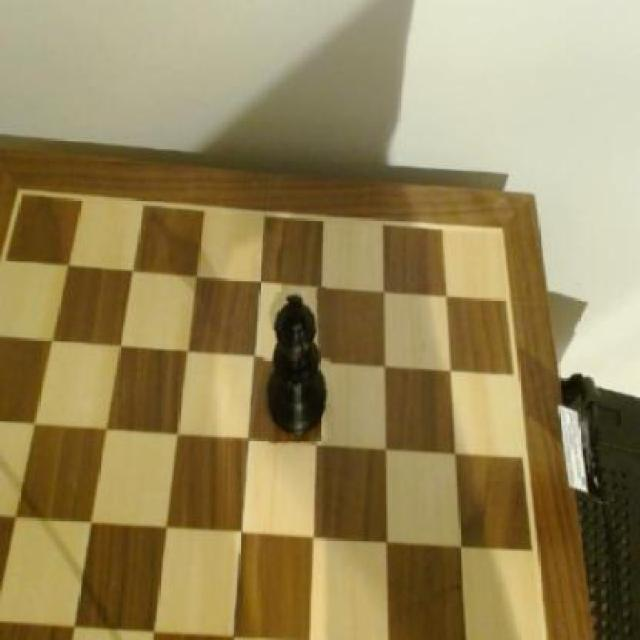black-bishop: (262, 289, 333, 447)
